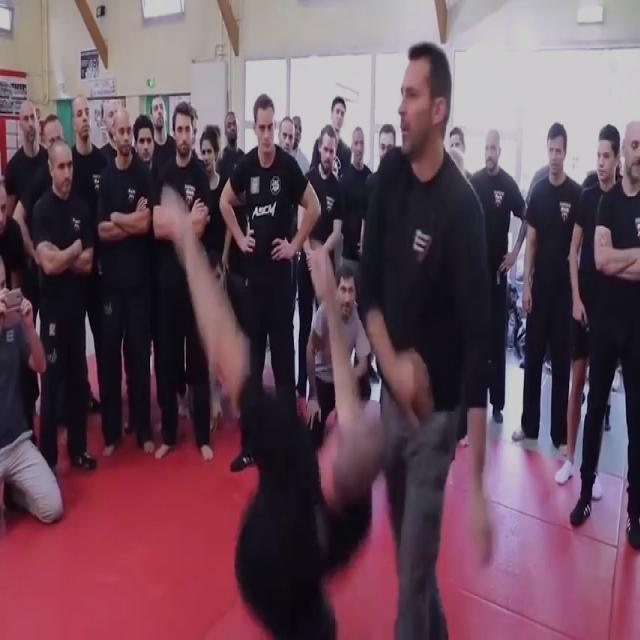fight: (162, 36, 505, 639)
non-fight: (208, 94, 334, 474), (570, 118, 640, 542), (26, 121, 96, 478)
